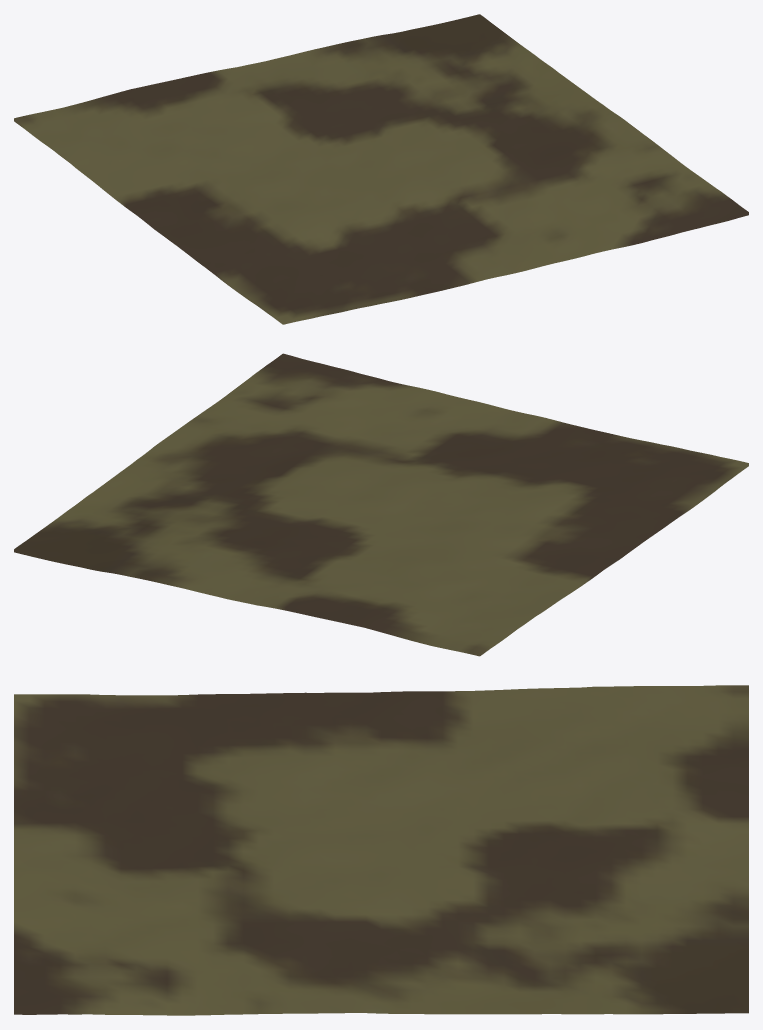
File: land_m_02_04.glb
3 views of the same model, one above another, from view 1: azimuth 30°, elevation 25°; view 2: azimuth 150°, elevation 25°; view 3: azimuth 270°, elevation 25° (orthographic). The views are drawn at different scales.
Visible parts, largest first — view 1: land_m_02_04; view 2: land_m_02_04; view 3: land_m_02_04.
Part boxes in pixels (left/top/right/bottom): land_m_02_04: left=14, top=14, right=748, bottom=324; land_m_02_04: left=14, top=353, right=748, bottom=656; land_m_02_04: left=14, top=685, right=748, bottom=1015.
Size of the model in its own units: 960 by 31.66 by 960.
